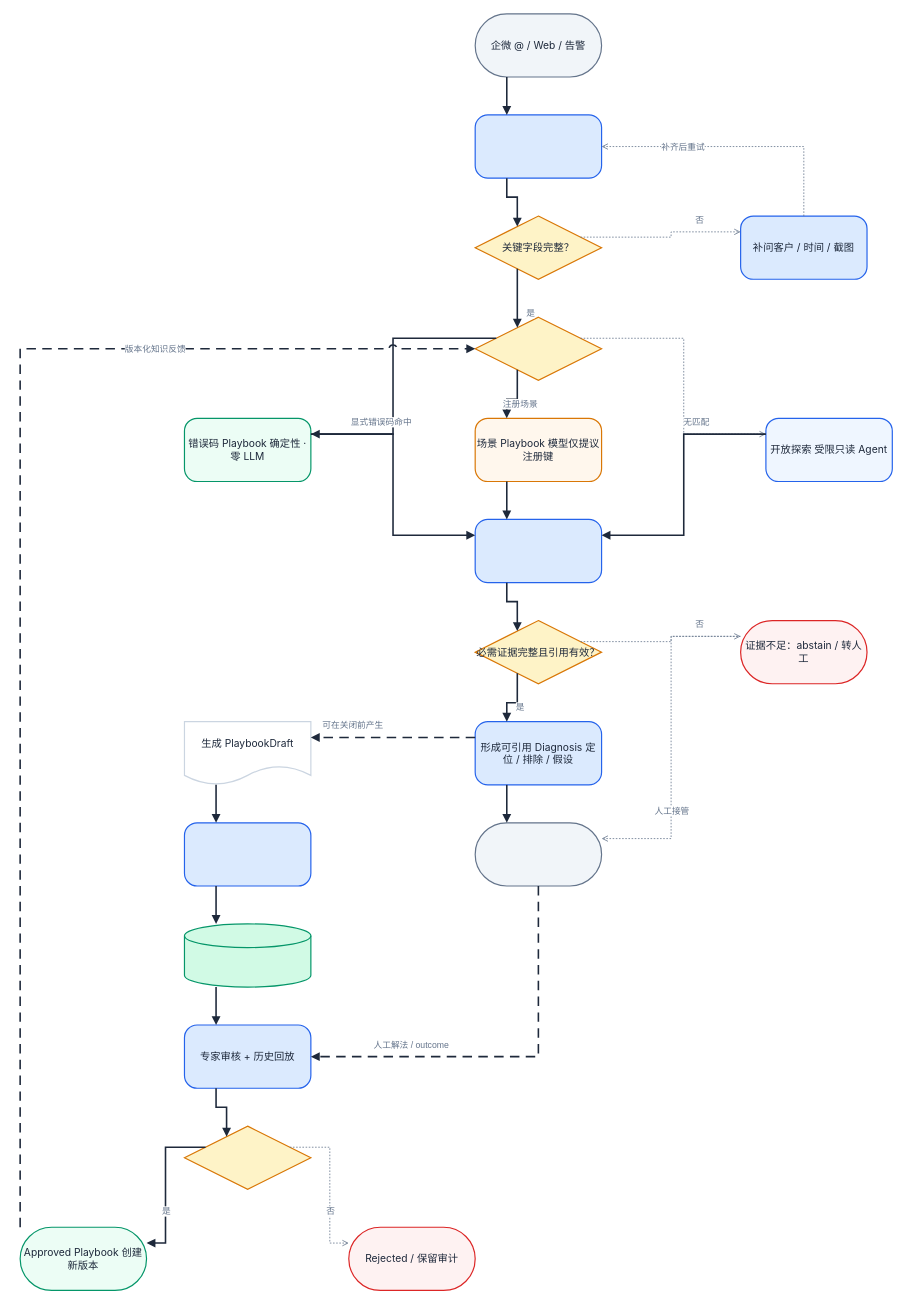
The diagram is 906 pixels wide and 1305 high, and some of its shapes have lost their labels. The shapes that lost their labels are listed below. From the top down, each one's centre as x and y in pixels, then its label:
[538,146]: 接收并脱敏报障上下文
[538,348]: 选择调查路径与权威
[538,550]: 有界取证 + 脱敏 + 压缩
[247,854]: 确定性校验 引用 / selector / 动作
[538,854]: 人工处置 → outcome 恢复验证 → 关闭
[247,955]: 保存 Candidate 幂等 · 不可路由
[247,1157]: 满足晋升资格？
